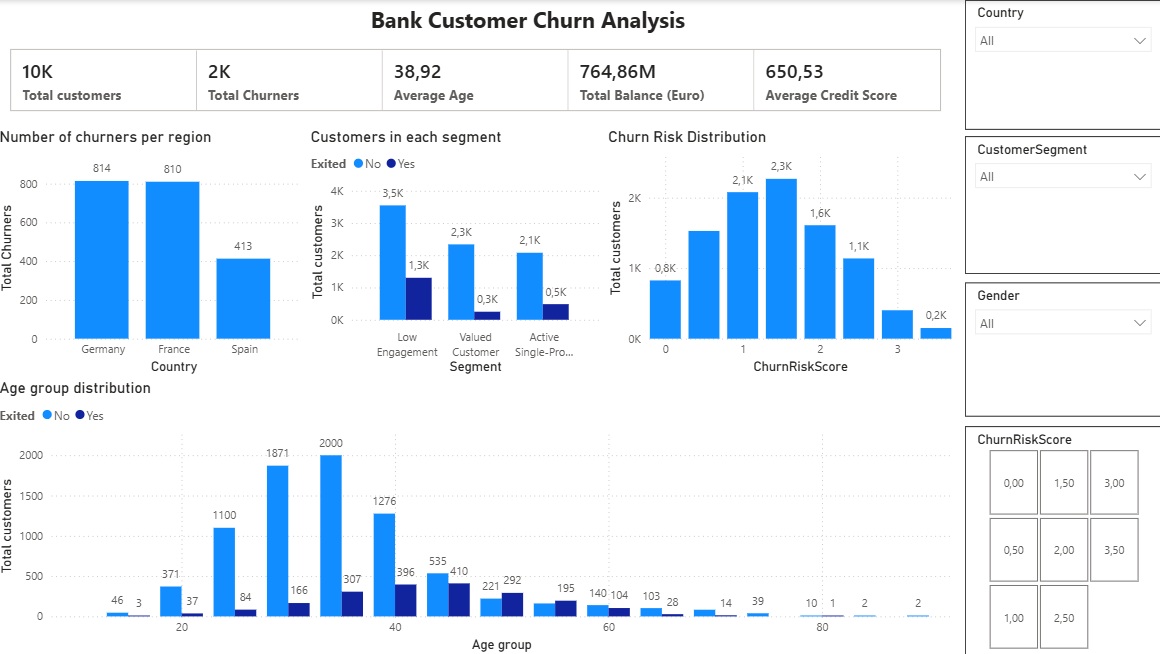

The dashboard page shown, as its layout file describes it:
{"tool":"powerbi","page":{"name":"Page 1","canvas":[1280,720],"ordinal":0},"visuals":[{"type":"textbox","box":[407.2,0,370.5,55],"z":0},{"type":"cardVisual","fields":{"Data":["Customer_Churn_Analysis (2).Total customers","Customer_Churn_Analysis (2).Total Churners","Customer_Churn_Analysis (2).Average Age","Sum(Customer_Churn_Analysis (2).Balance)","Customer_Churn_Analysis (2).Average Credit Score"]},"box":[0,37,1055.2,102.9],"z":1},{"type":"clusteredColumnChart","title":"Number of churners per region","fields":{"Category":["Customer_Churn_Analysis (2).Geography"],"Y":["Customer_Churn_Analysis (2).Total Churners"]},"box":[0,140,341.7,275.8],"z":2},{"type":"clusteredColumnChart","title":"Customers in each segment","fields":{"Category":["Customer_Churn_Analysis (2).CustomerSegment"],"Y":["Customer_Churn_Analysis (2).Total customers"],"Series":["Customer_Churn_Analysis (2).Exited"]},"box":[341.7,140,326.6,275.8],"z":3},{"type":"clusteredColumnChart","title":"Age group distribution","fields":{"Category":["Customer_Churn_Analysis (2).Age (bins)"],"Y":["Customer_Churn_Analysis (2).Total customers"],"Series":["Customer_Churn_Analysis (2).Exited"]},"box":[0,415.8,1055.2,304.6],"z":4},{"type":"clusteredColumnChart","title":"Churn Risk Distribution","fields":{"Category":["Customer_Churn_Analysis (2).ChurnRiskScore"],"Y":["Customer_Churn_Analysis (2).Total customers"]},"box":[668.3,140,387,275.8],"z":5},{"type":"slicer","fields":{"Values":["Customer_Churn_Analysis (2).Geography"]},"box":[1064.8,0,215.4,142.7],"z":6},{"type":"slicer","fields":{"Values":["Customer_Churn_Analysis (2).CustomerSegment"]},"box":[1064.8,149.6,215.4,150.9],"z":7},{"type":"slicer","fields":{"Values":["Customer_Churn_Analysis (2).Gender"]},"box":[1064.8,310.1,215.4,146.8],"z":8},{"type":"slicer","fields":{"Values":["Customer_Churn_Analysis (2).ChurnRiskScore"]},"box":[1064.8,467.9,215.4,252.5],"z":9}]}

Visuals, with their boxes in screenshot pixels (x1, y1, x2, y2):
textbox: (379,0,710,16)
cardVisual - Customer_Churn_Analysis (2).Total customers x Customer_Churn_Analysis (2).Total Churners: (15,0,958,92)
"Number of churners per region" clusteredColumnChart: (15,92,320,338)
"Customers in each segment" clusteredColumnChart: (320,92,612,338)
"Age group distribution" clusteredColumnChart: (15,338,958,611)
"Churn Risk Distribution" clusteredColumnChart: (612,92,958,338)
slicer - Customer_Churn_Analysis (2).Geography: (967,0,1159,94)
slicer - Customer_Churn_Analysis (2).CustomerSegment: (967,100,1159,235)
slicer - Customer_Churn_Analysis (2).Gender: (967,244,1159,375)
slicer - Customer_Churn_Analysis (2).ChurnRiskScore: (967,385,1159,611)
